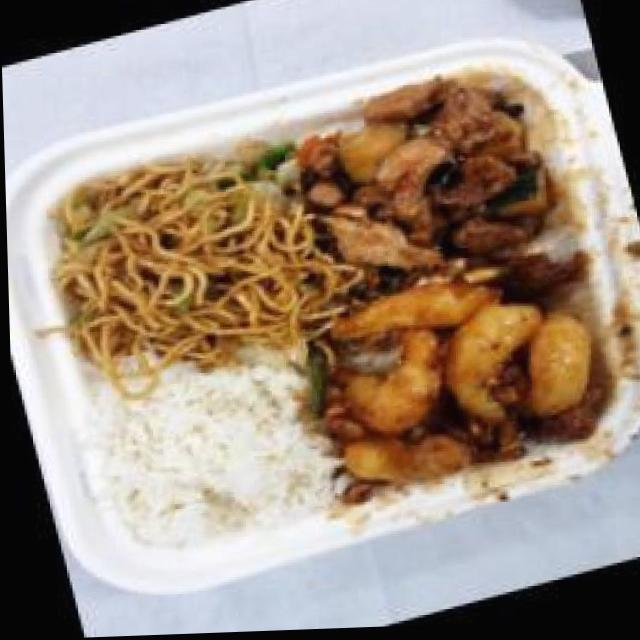Chow Mein: (28, 123, 342, 397)
Honey Walnut Shrimp: (291, 240, 630, 520)
Kung Pao Chicken: (284, 56, 578, 315)
White Steamed Rice: (73, 338, 343, 569)
